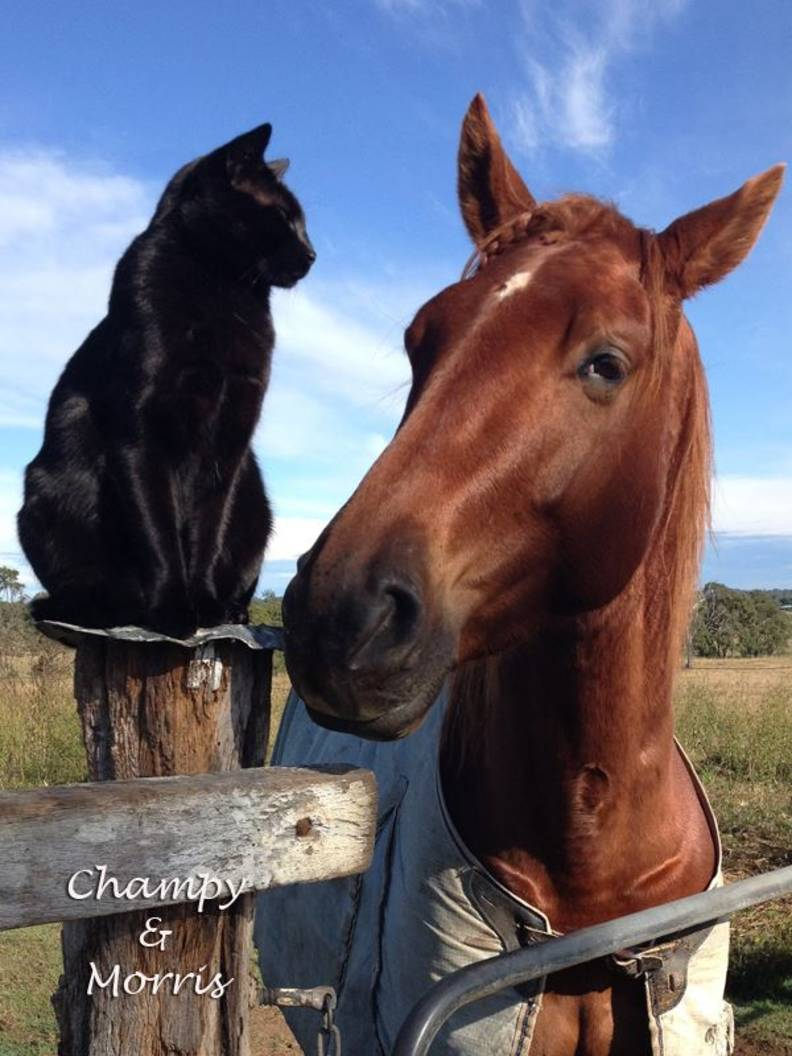Cat: (35, 95, 312, 679)
Horse: (337, 159, 751, 1056)
